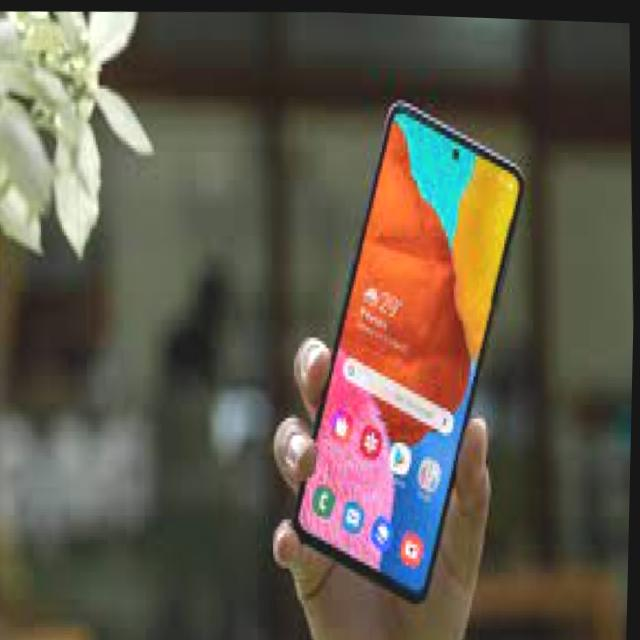Smartphone: (282, 79, 539, 621)
